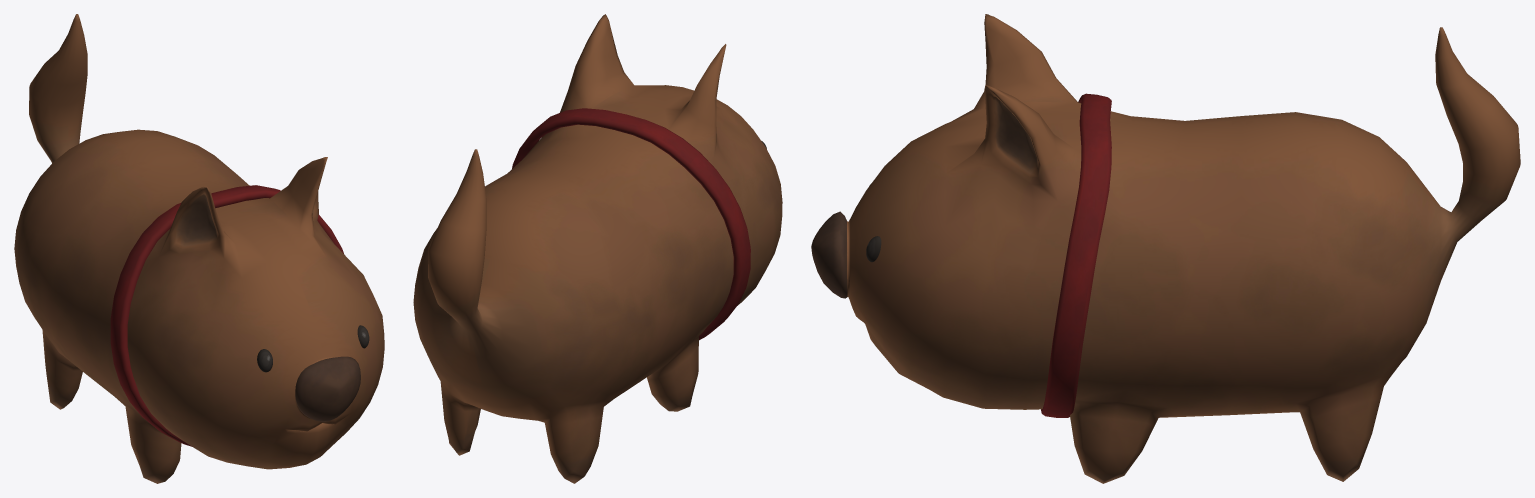
Rendered from Dog.obj.
The picture shows the model from 3 angles, left to right: view 1: azimuth 30°, elevation 25°; view 2: azimuth 150°, elevation 25°; view 3: azimuth 270°, elevation 25°; orthographic projection. The views are drawn at different scales.
Parts seen in each view (by area): view 1: dog; view 2: dog; view 3: dog.
Boxes of the visible parts, x1=… form: dog: x1=14, y1=14, x2=384, y2=483; dog: x1=413, y1=14, x2=782, y2=483; dog: x1=811, y1=14, x2=1520, y2=483.
Size of the model in its own units: 61.25 by 87.89 by 134.
1 material, 1 textured.
